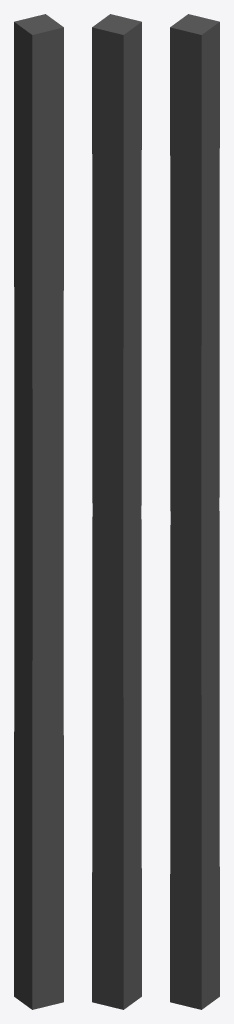
File: Metal_Pole.fbx
3 views of the same model, side by side, from view 1: azimuth 30°, elevation 25°; view 2: azimuth 150°, elevation 25°; view 3: azimuth 330°, elevation 25° (orthographic).
Visible parts, largest first — view 1: Fence; view 2: Fence; view 3: Fence.
Part boxes in pixels (left/top/right/bottom): Fence: left=14, top=14, right=63, bottom=1009; Fence: left=92, top=14, right=141, bottom=1009; Fence: left=170, top=14, right=219, bottom=1009.
Bounding box in the file's own units: 0.1577 × 4.65 × 0.1587.
